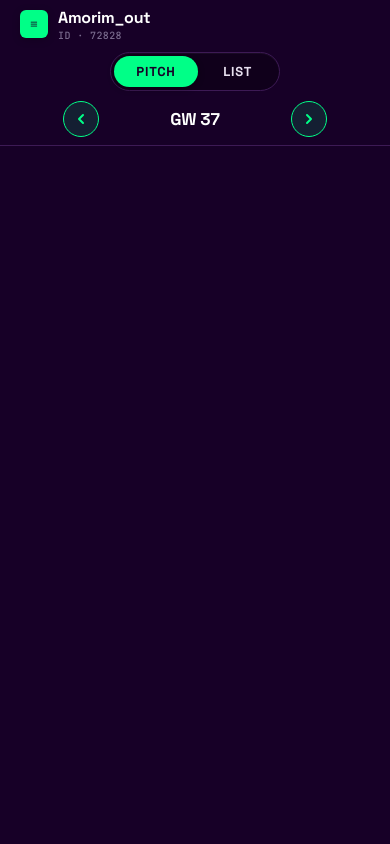
Test: SquadScreen drawer › clicking the burger button opens the drawer
Click the button named "open team info".
click(34, 24)  # box [20, 10, 48, 38]
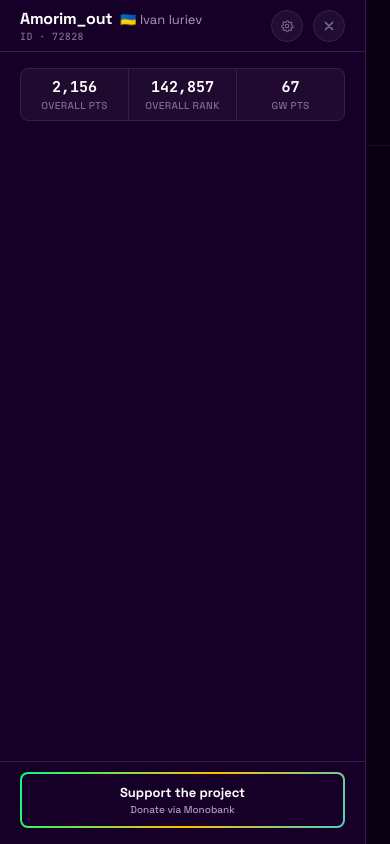
Expected: the dialog named "team information" is shown
